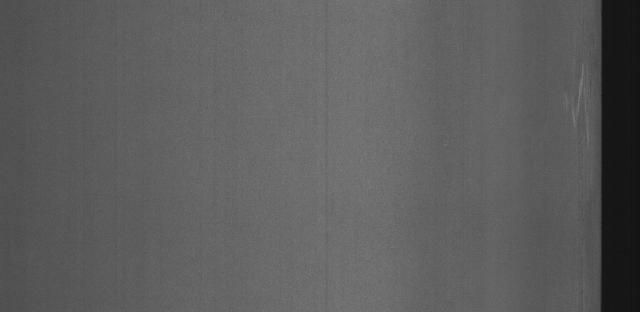silk_spot: (556, 28, 599, 206)
